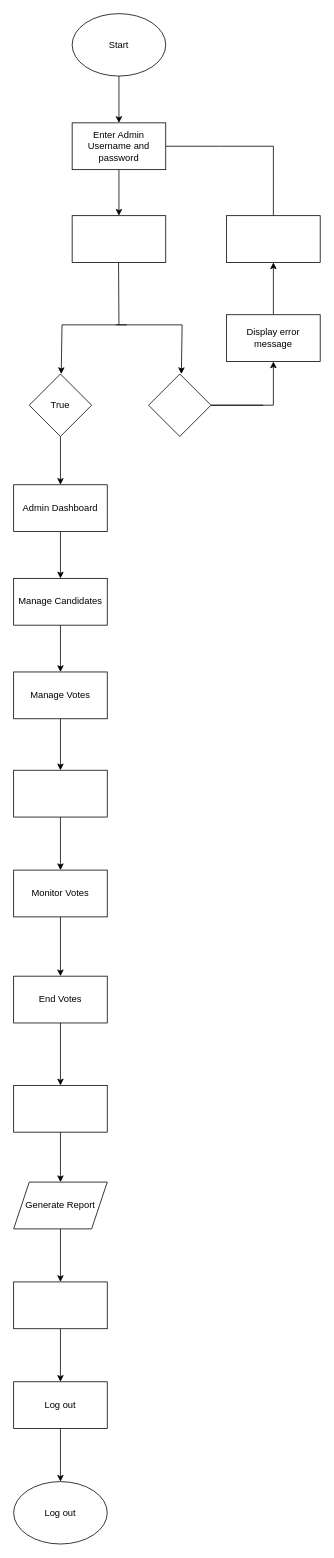
Image size: 334x1558. Some labels were removed from this diagram. Each missing label, with the centre of its shape:
"False" goes at pixel 179 404.
"Return to Dashboard" goes at pixel 60 1305.
"Return to log in" goes at pixel 273 238.
"Set voting schedule" goes at pixel 60 793.
"Show results" goes at pixel 60 1108.
"Validate Admin credentials" goes at pixel 118 238.
